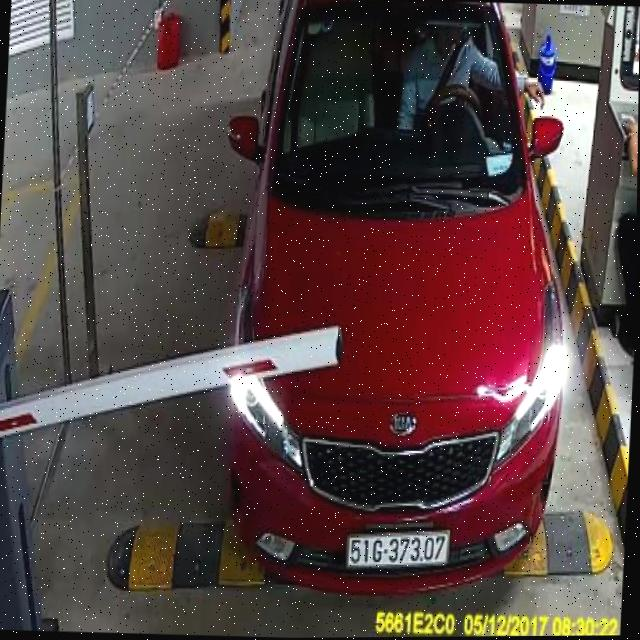car: (202, 0, 587, 609)
plate: (343, 526, 455, 572)
